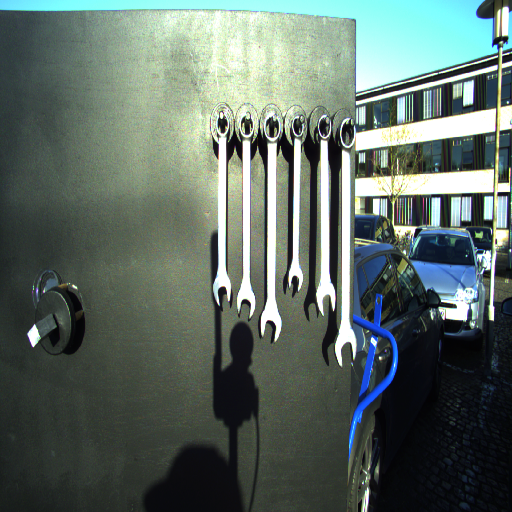bottom: (333, 331, 357, 368), (313, 281, 336, 317), (258, 310, 282, 343), (210, 275, 232, 307), (235, 290, 257, 322), (286, 265, 304, 293)
top: (337, 116, 356, 159), (261, 113, 282, 145), (238, 111, 256, 143), (316, 112, 333, 145), (288, 114, 305, 142), (215, 111, 230, 140)
